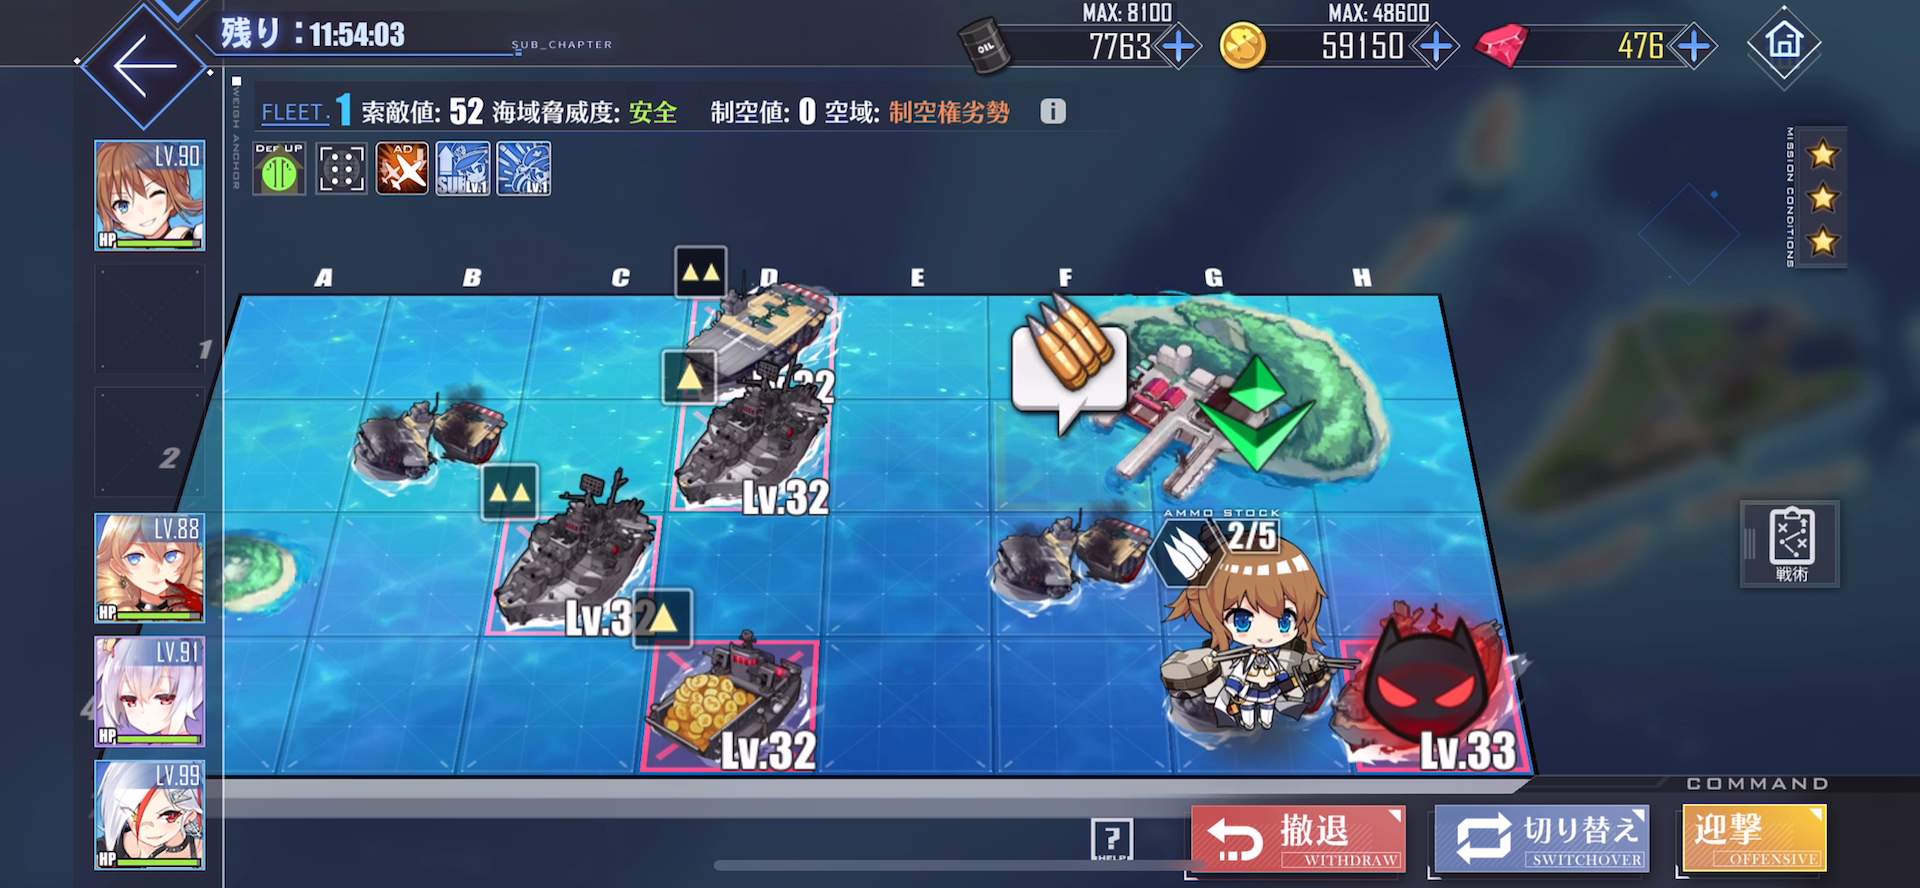boss: (1326, 603, 1532, 773)
